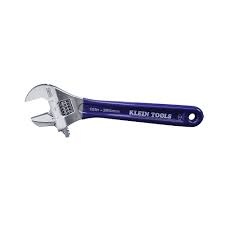wrench: (14, 78, 207, 140)
